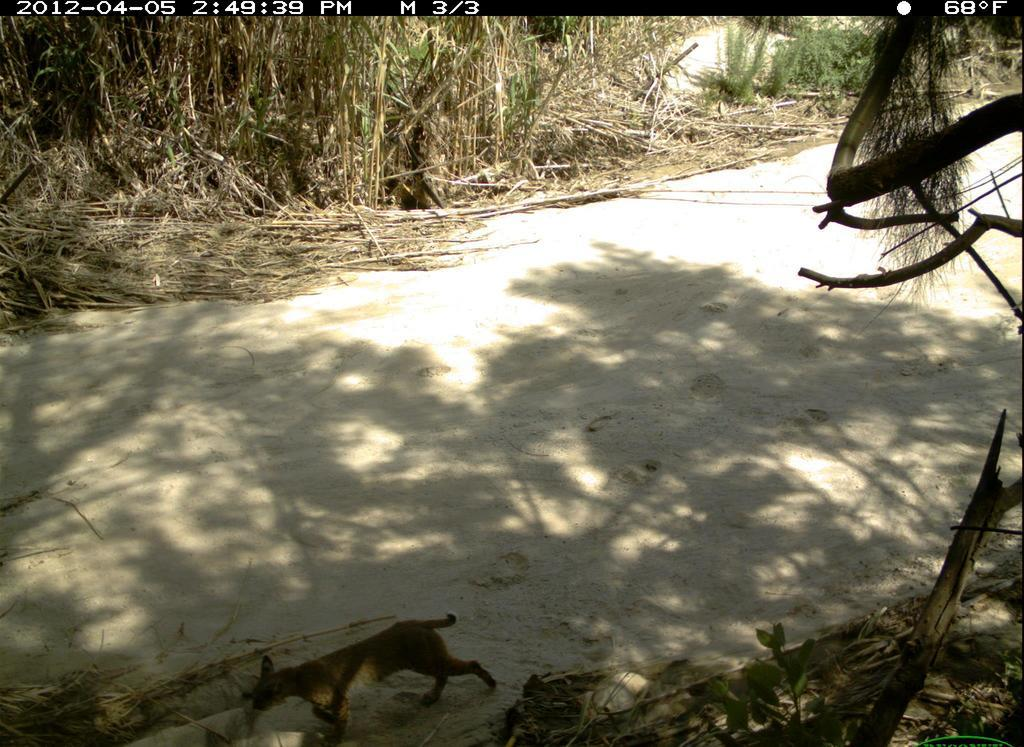bobcat: (246, 623, 505, 747)
